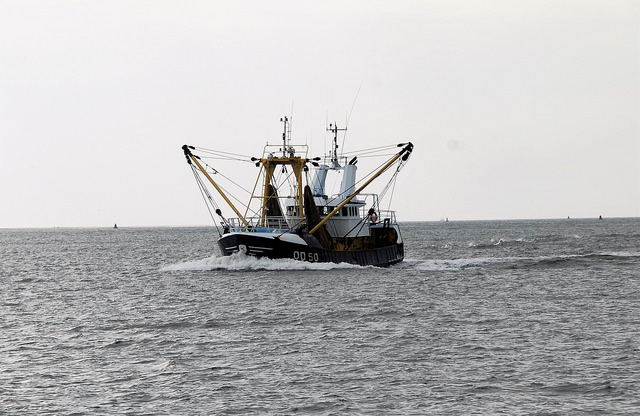fishing_boat: (178, 112, 418, 271)
